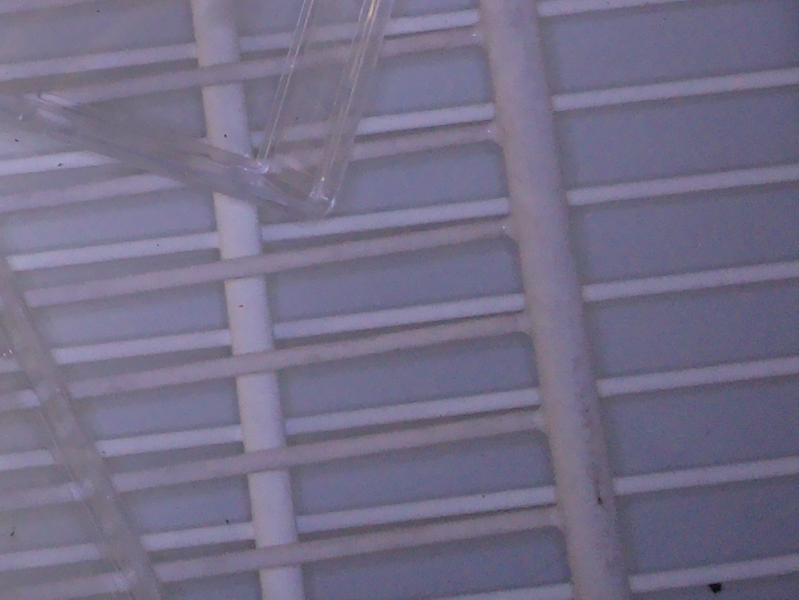plate: (1, 1, 397, 219), (1, 249, 166, 600)
